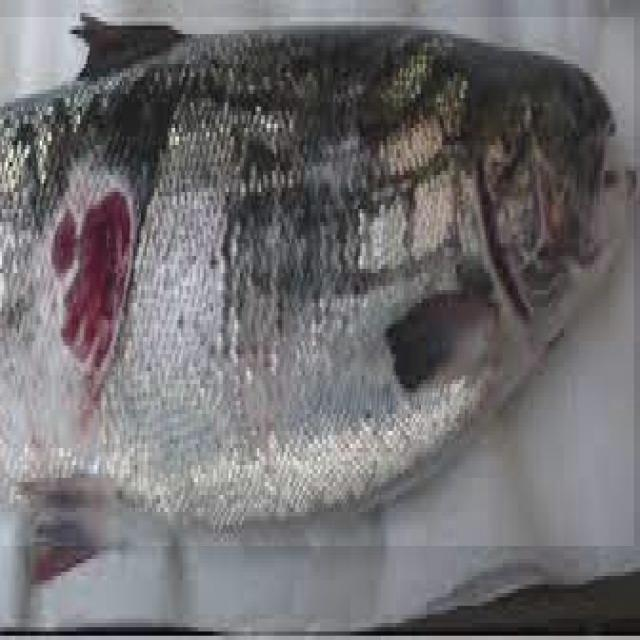EUS Disease: (0, 17, 634, 546), (13, 182, 225, 395)
